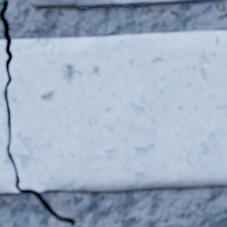brick: (30, 0, 208, 7)
broken_brick: (8, 31, 226, 191), (0, 40, 19, 192)
crack: (0, 1, 75, 225)
